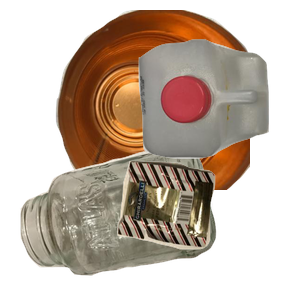glass: (18, 143, 227, 300)
metal: (53, 10, 293, 190)
plastic: (136, 37, 300, 188)
trash: (115, 158, 300, 300)
